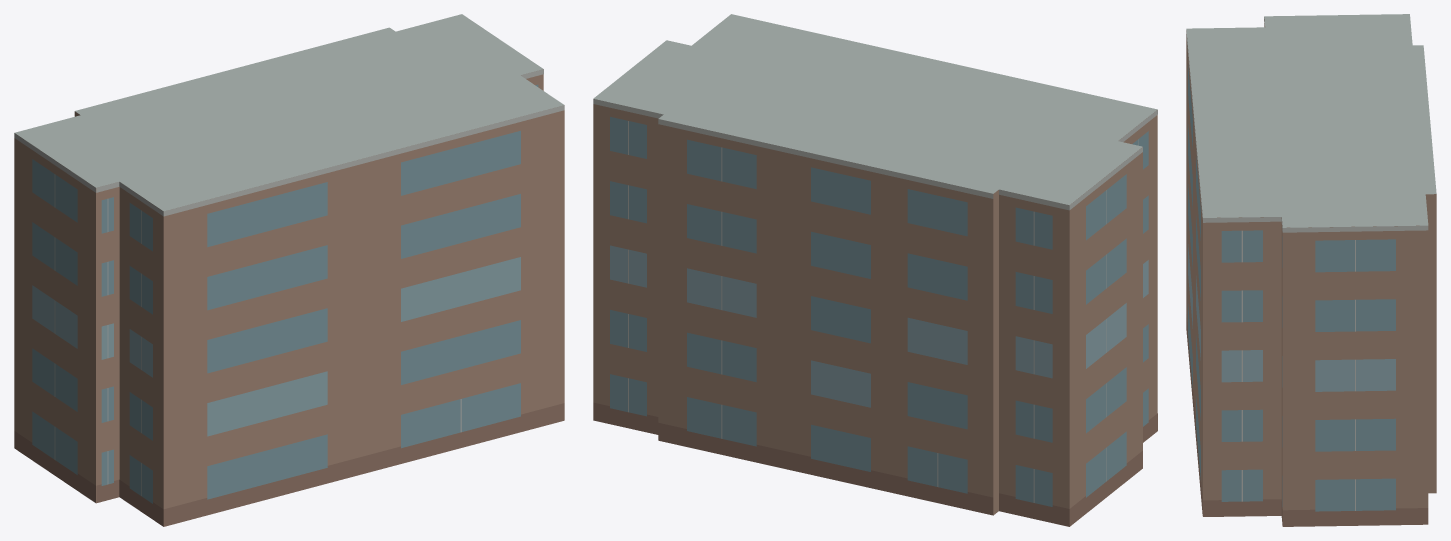
File: survey-upis-32666556.glb
The picture shows the model from 3 angles, left to right: view 1: azimuth 30°, elevation 25°; view 2: azimuth 150°, elevation 25°; view 3: azimuth 270°, elevation 25°; orthographic projection. The views are drawn at different scales.
Parts seen in each view (by area): view 1: survey-upis-32666556.tmp; view 2: survey-upis-32666556.tmp; view 3: survey-upis-32666556.tmp.
Part boxes in pixels (left/top/right/bottom): survey-upis-32666556.tmp: left=14, top=14, right=564, bottom=526; survey-upis-32666556.tmp: left=593, top=14, right=1157, bottom=526; survey-upis-32666556.tmp: left=1186, top=14, right=1436, bottom=526.
Bounding box in the file's own units: 23.09 × 15.05 × 11.43.
